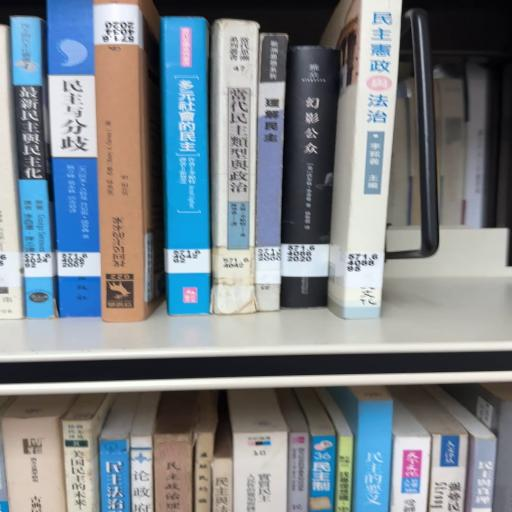reverse: (94, 1, 166, 323)
